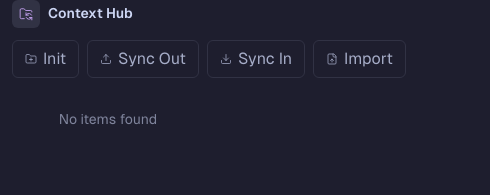
Scenario: ContextSection › clicking import shows type dropdown
Click the button "Import". click: (360, 59)
box: 313,40 -> 406,78
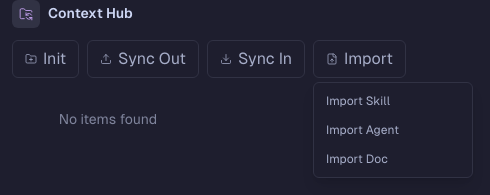
Expected: the button "Import Skill" is shown, 314,87 -> 472,116
Expected: the button "Import Agent" is shown, 314,116 -> 472,145
Expected: the button "Import Doc" is shown, 314,145 -> 472,173
